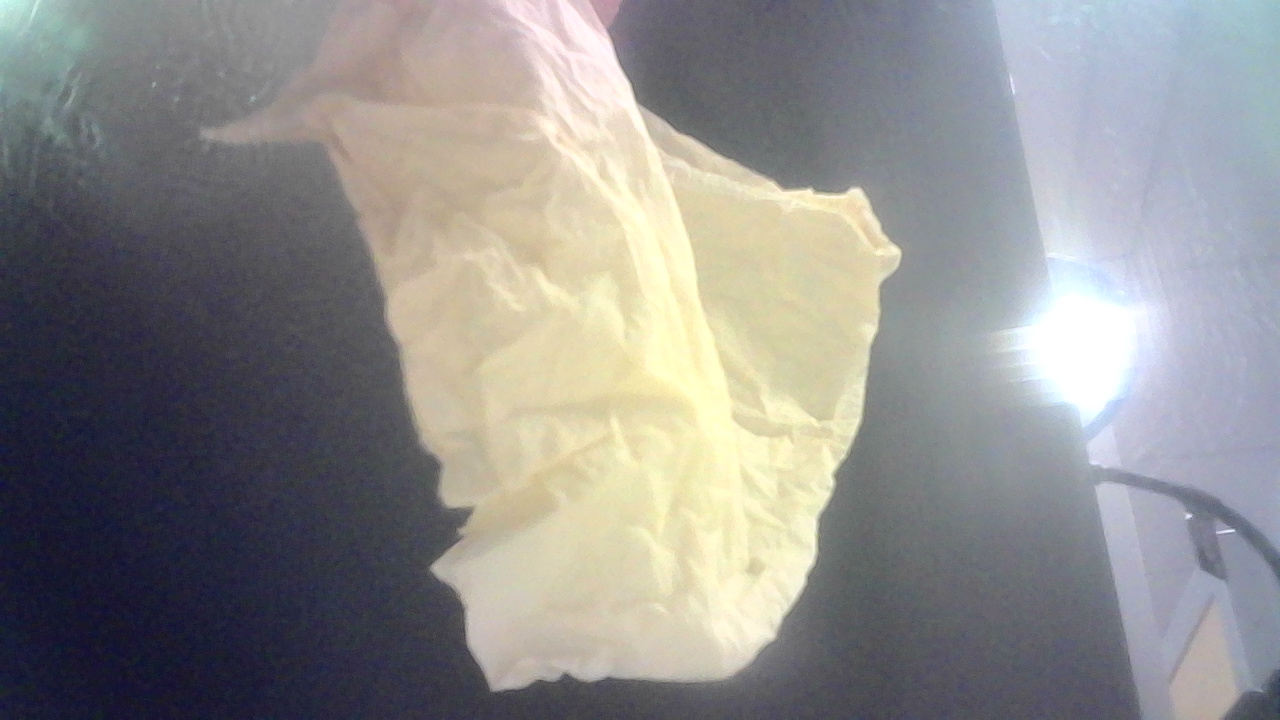Paper_Recycling: (221, 7, 907, 693)
